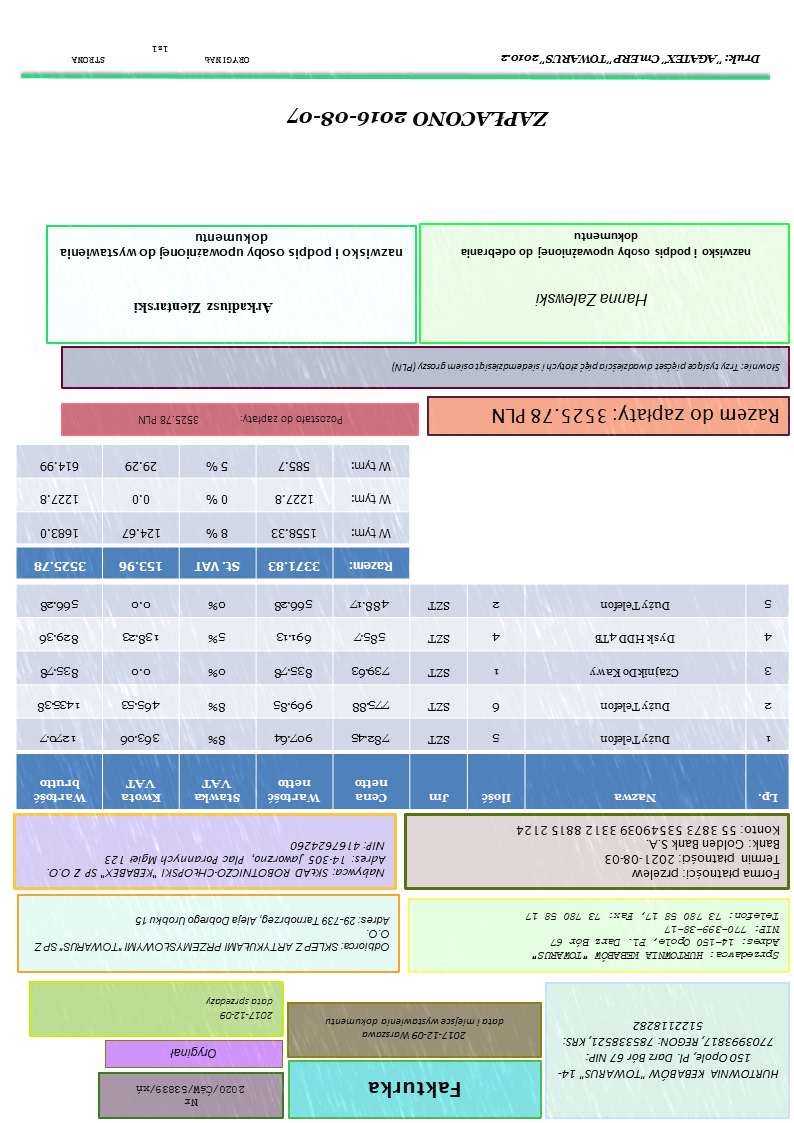Table: (14, 582, 791, 812), (15, 446, 412, 582)
TextBox: (31, 909, 395, 959), (43, 835, 391, 885), (514, 823, 785, 883), (555, 1015, 782, 1085), (522, 907, 785, 967), (55, 231, 407, 267), (455, 228, 756, 265), (489, 403, 786, 434), (282, 103, 552, 135), (388, 358, 786, 379), (322, 1014, 510, 1047), (494, 47, 765, 69), (69, 40, 253, 69), (132, 410, 349, 432), (131, 1081, 247, 1112), (129, 295, 276, 319), (533, 287, 653, 316), (365, 1078, 468, 1104), (203, 991, 277, 1025), (166, 1045, 220, 1064)
